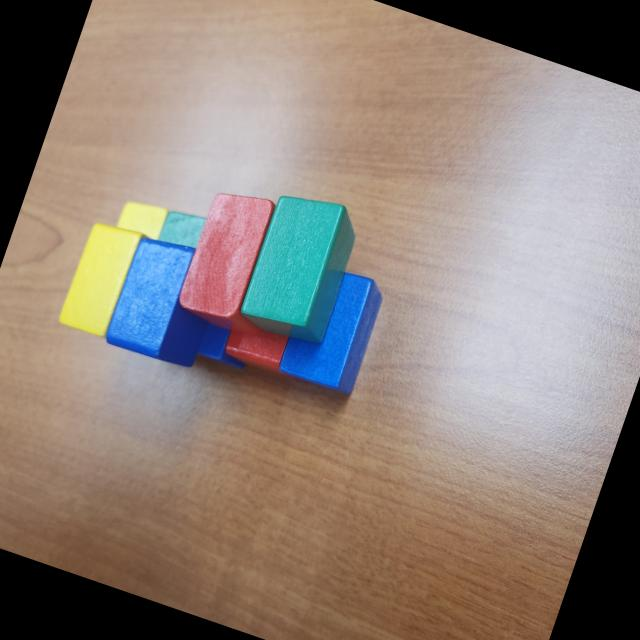blue: (102, 230, 230, 372), (274, 258, 390, 399), (192, 320, 255, 373)
green: (235, 184, 368, 350), (154, 203, 210, 256)
red: (172, 181, 303, 341), (219, 306, 313, 384)
yellow: (55, 216, 141, 340), (113, 191, 171, 244)
